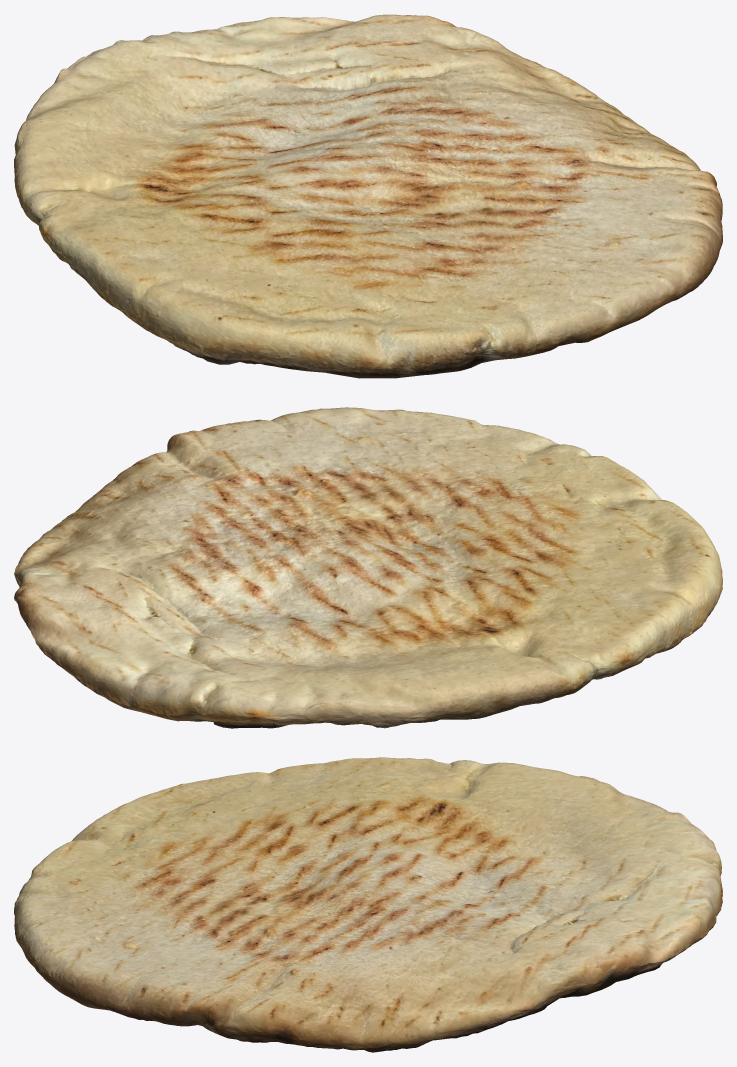
File: Pita_C.glb
3 views of the same model, one above another, from view 1: azimuth 30°, elevation 25°; view 2: azimuth 150°, elevation 25°; view 3: azimuth 270°, elevation 25° (orthographic). The views are drawn at different scales.
Bounding box in the file's own units: 0.1374 × 0.0211 × 0.1565.
1 material, 1 textured.
